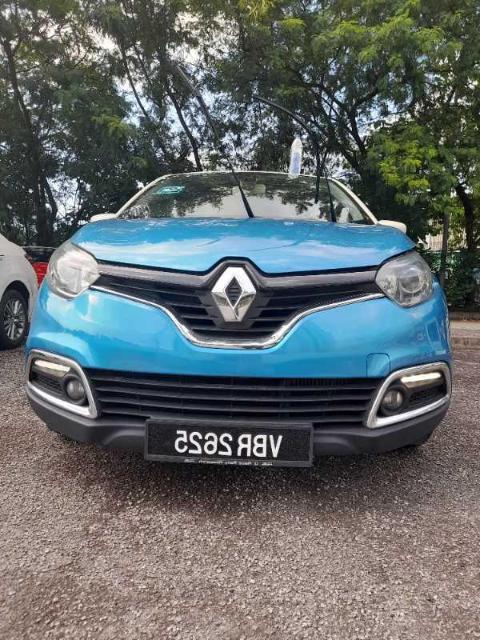License_Plate: (143, 418, 315, 469)
car: (24, 169, 455, 469)
